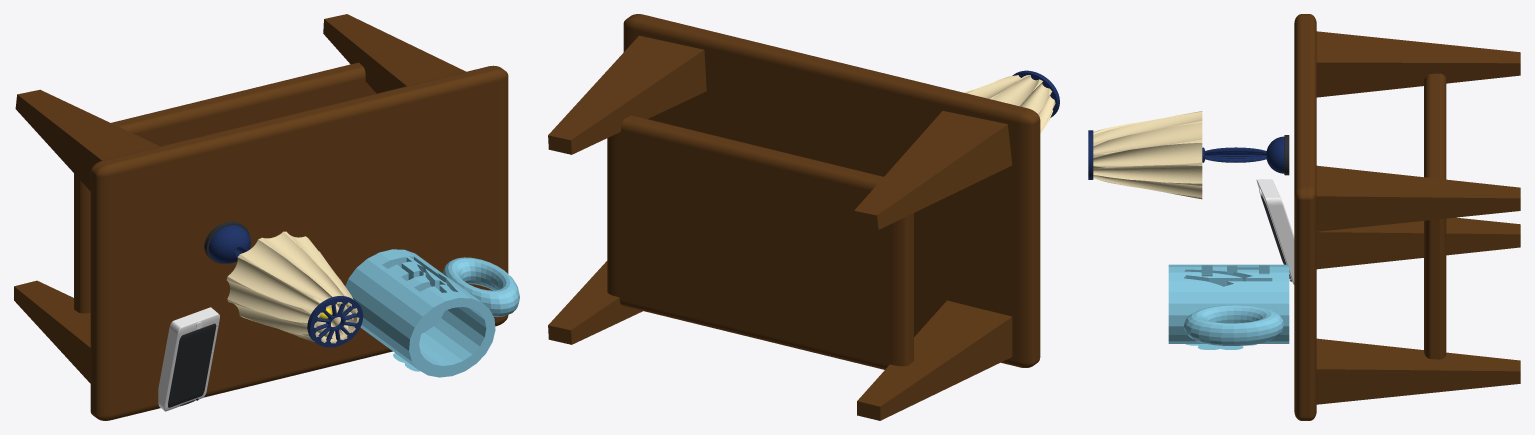
File: tinker.obj
3 views of the same model, side by side, from view 1: azimuth 30°, elevation 25°; view 2: azimuth 150°, elevation 25°; view 3: azimuth 270°, elevation 25° (orthographic). The views are drawn at different scales.
Parts seen in each view (by area): view 1: group_0_6306067, group_0_8768998, group_0_16311991, group_0_1650274, group_0_2829873, group_0_16448250; view 2: group_0_6306067, group_0_16311991; view 3: group_0_6306067, group_0_8768998, group_0_16311991, group_0_1650274, group_0_16448250, group_0_2829873.
Part boxes in pixels (left/top/right/bottom): group_0_6306067: left=14, top=14, right=508, bottom=420; group_0_8768998: left=345, top=249, right=519, bottom=377; group_0_16311991: left=226, top=231, right=359, bottom=343; group_0_1650274: left=208, top=225, right=363, bottom=347; group_0_2829873: left=168, top=221, right=249, bottom=407; group_0_16448250: left=158, top=307, right=219, bottom=411; group_0_6306067: left=548, top=14, right=1040, bottom=420; group_0_16311991: left=964, top=75, right=1055, bottom=133; group_0_6306067: left=1294, top=14, right=1520, bottom=420; group_0_8768998: left=1168, top=264, right=1289, bottom=349; group_0_16311991: left=1093, top=111, right=1202, bottom=199; group_0_1650274: left=1088, top=130, right=1284, bottom=179; group_0_16448250: left=1256, top=179, right=1294, bottom=284; group_0_2829873: left=1259, top=135, right=1291, bottom=281.
Size of the model in its own units: 86 by 51 by 86.01.
